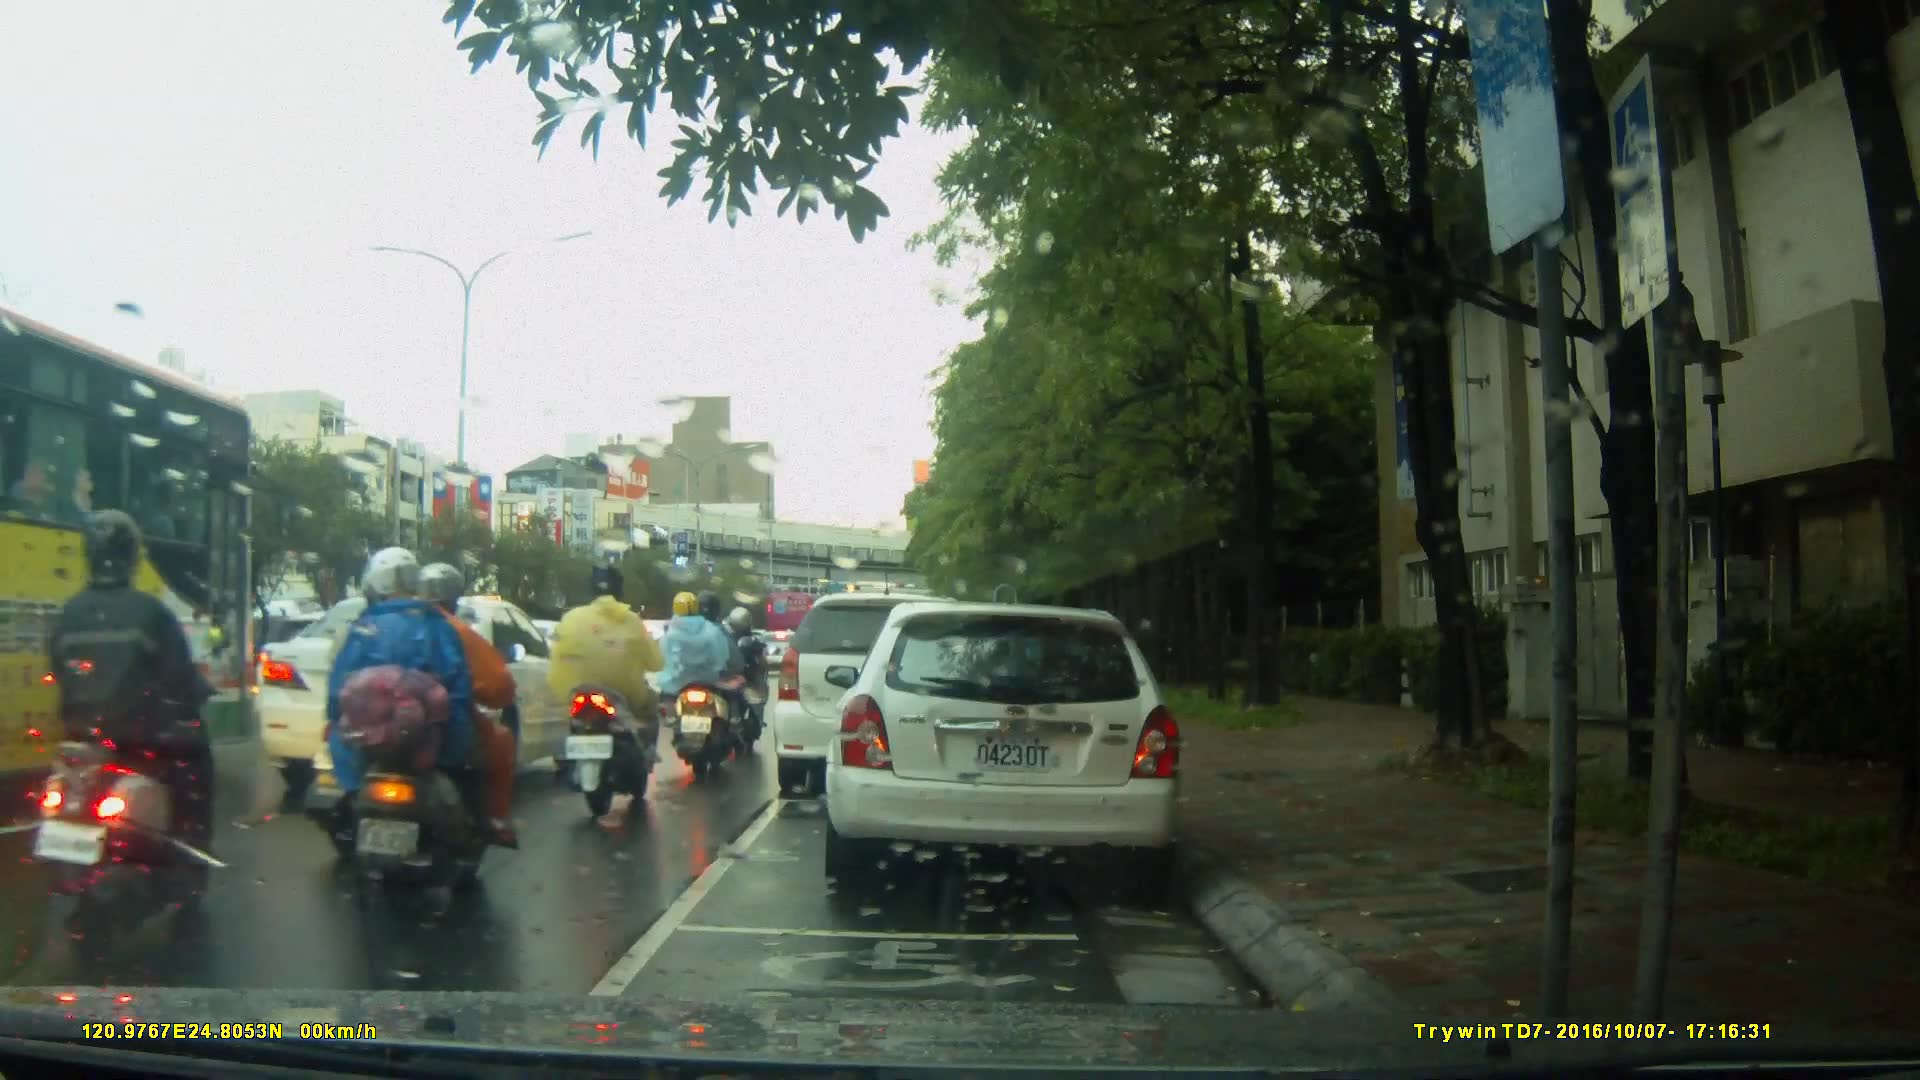rider: (22, 510, 218, 934), (321, 553, 531, 893), (529, 558, 660, 814), (666, 583, 735, 758), (707, 609, 770, 756)
vehicle: (1, 301, 268, 827), (835, 594, 1194, 898), (255, 593, 596, 809), (776, 590, 1026, 784)
